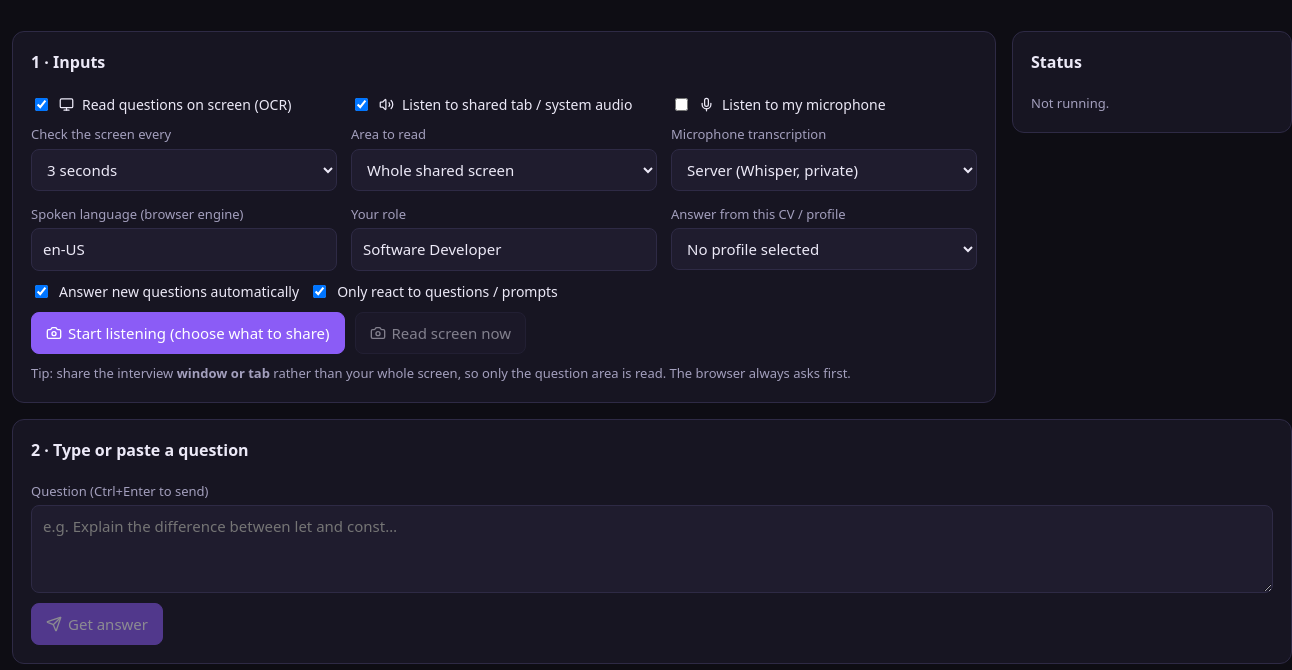
Test: Live copilot (web) › answers a typed question using the backend
Type "What is the difference between let and const?" into the text box with placeholder "e.g. Explain the difference between let and const…" at (652, 549), box [31, 505, 1273, 592]
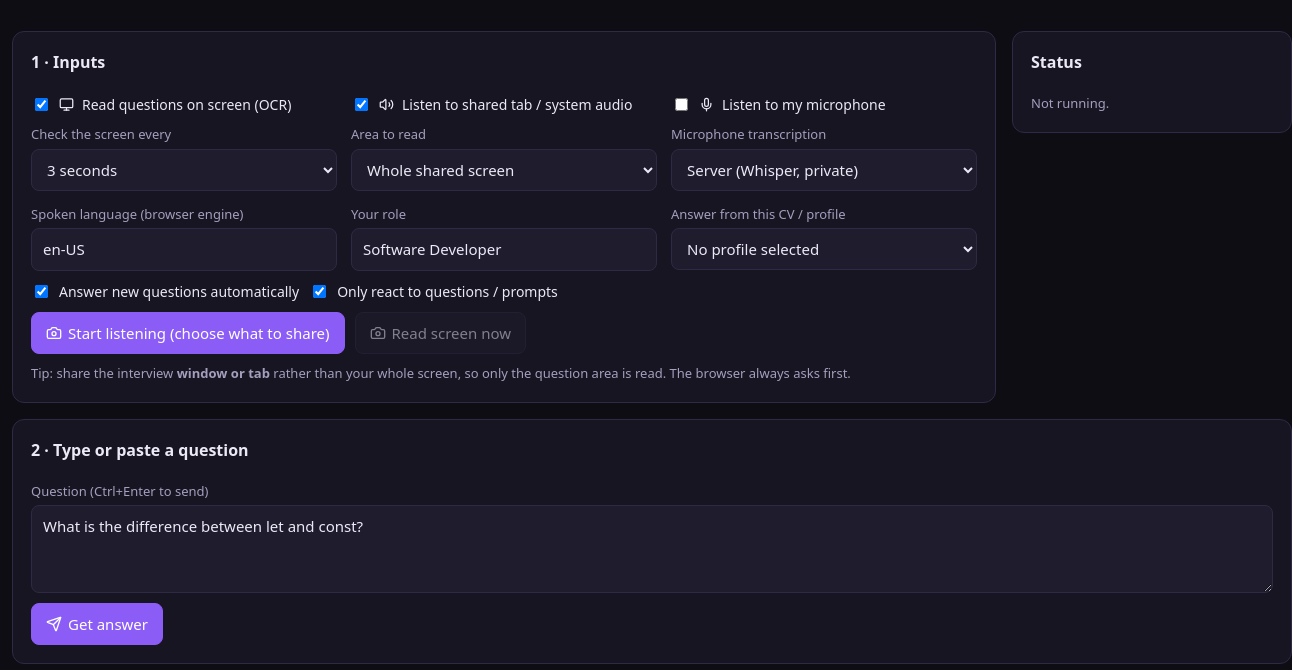
Click the button "Get answer" at (97, 624), box [31, 602, 163, 645]
(page scrolled)
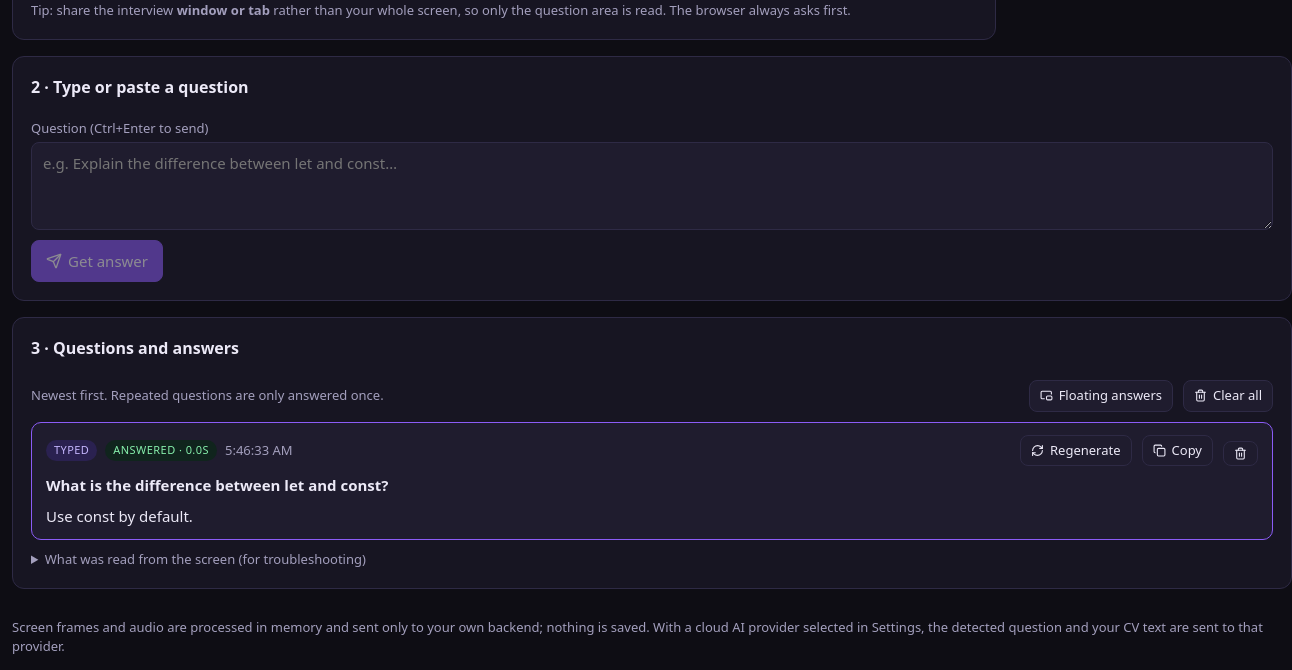
expect the text "Use const by default." is shown: met, box [46, 506, 193, 526]
expect the text "What is the difference between let and const?" is shown: met, box [46, 475, 388, 495]
